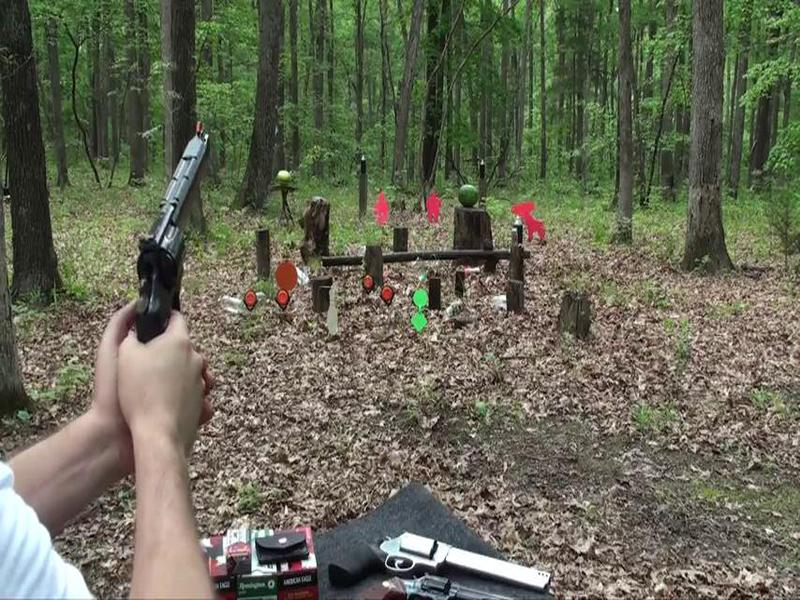Revolver: (125, 115, 227, 363)
